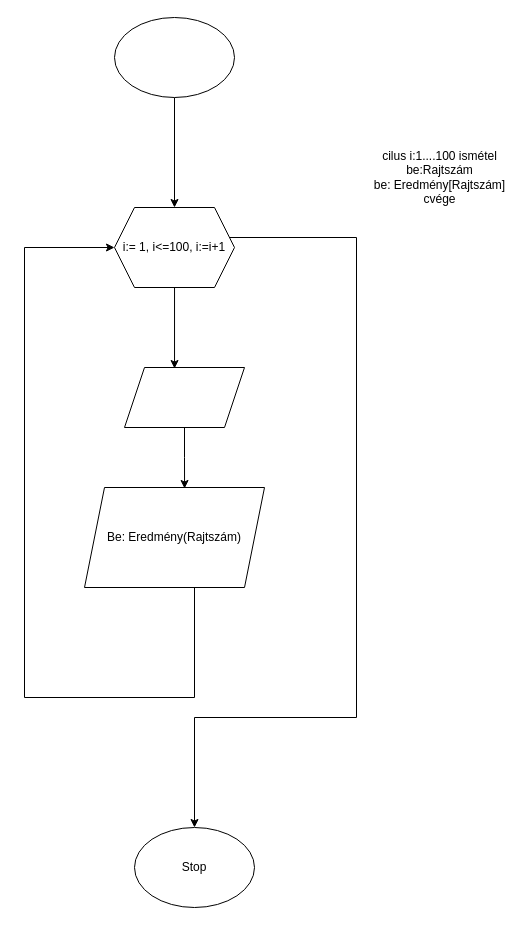
Image size: 532x925. Some labels were removed from this diagram. The centre of each missing label's shape, as x and y in pixels:
Be: Rajtszám: point 184,397
Start: point 174,57
